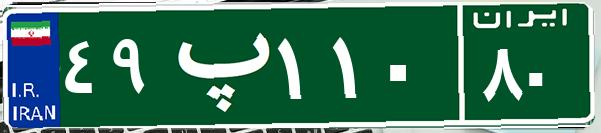0: (385, 28, 445, 110), (525, 38, 570, 115)
1: (273, 28, 330, 110), (330, 28, 385, 110)
4: (57, 26, 110, 107)
8: (475, 38, 525, 113)
9: (110, 28, 158, 105)
پ: (158, 15, 273, 115)
